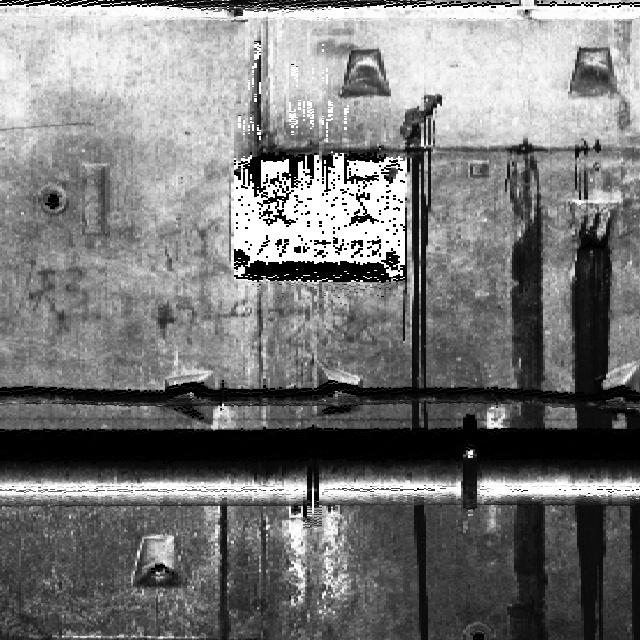leakage: (564, 142, 639, 430), (393, 90, 440, 428), (497, 137, 547, 429), (504, 493, 553, 639), (567, 493, 607, 639), (406, 490, 438, 639), (209, 489, 238, 639), (455, 408, 482, 513), (626, 493, 639, 639)
